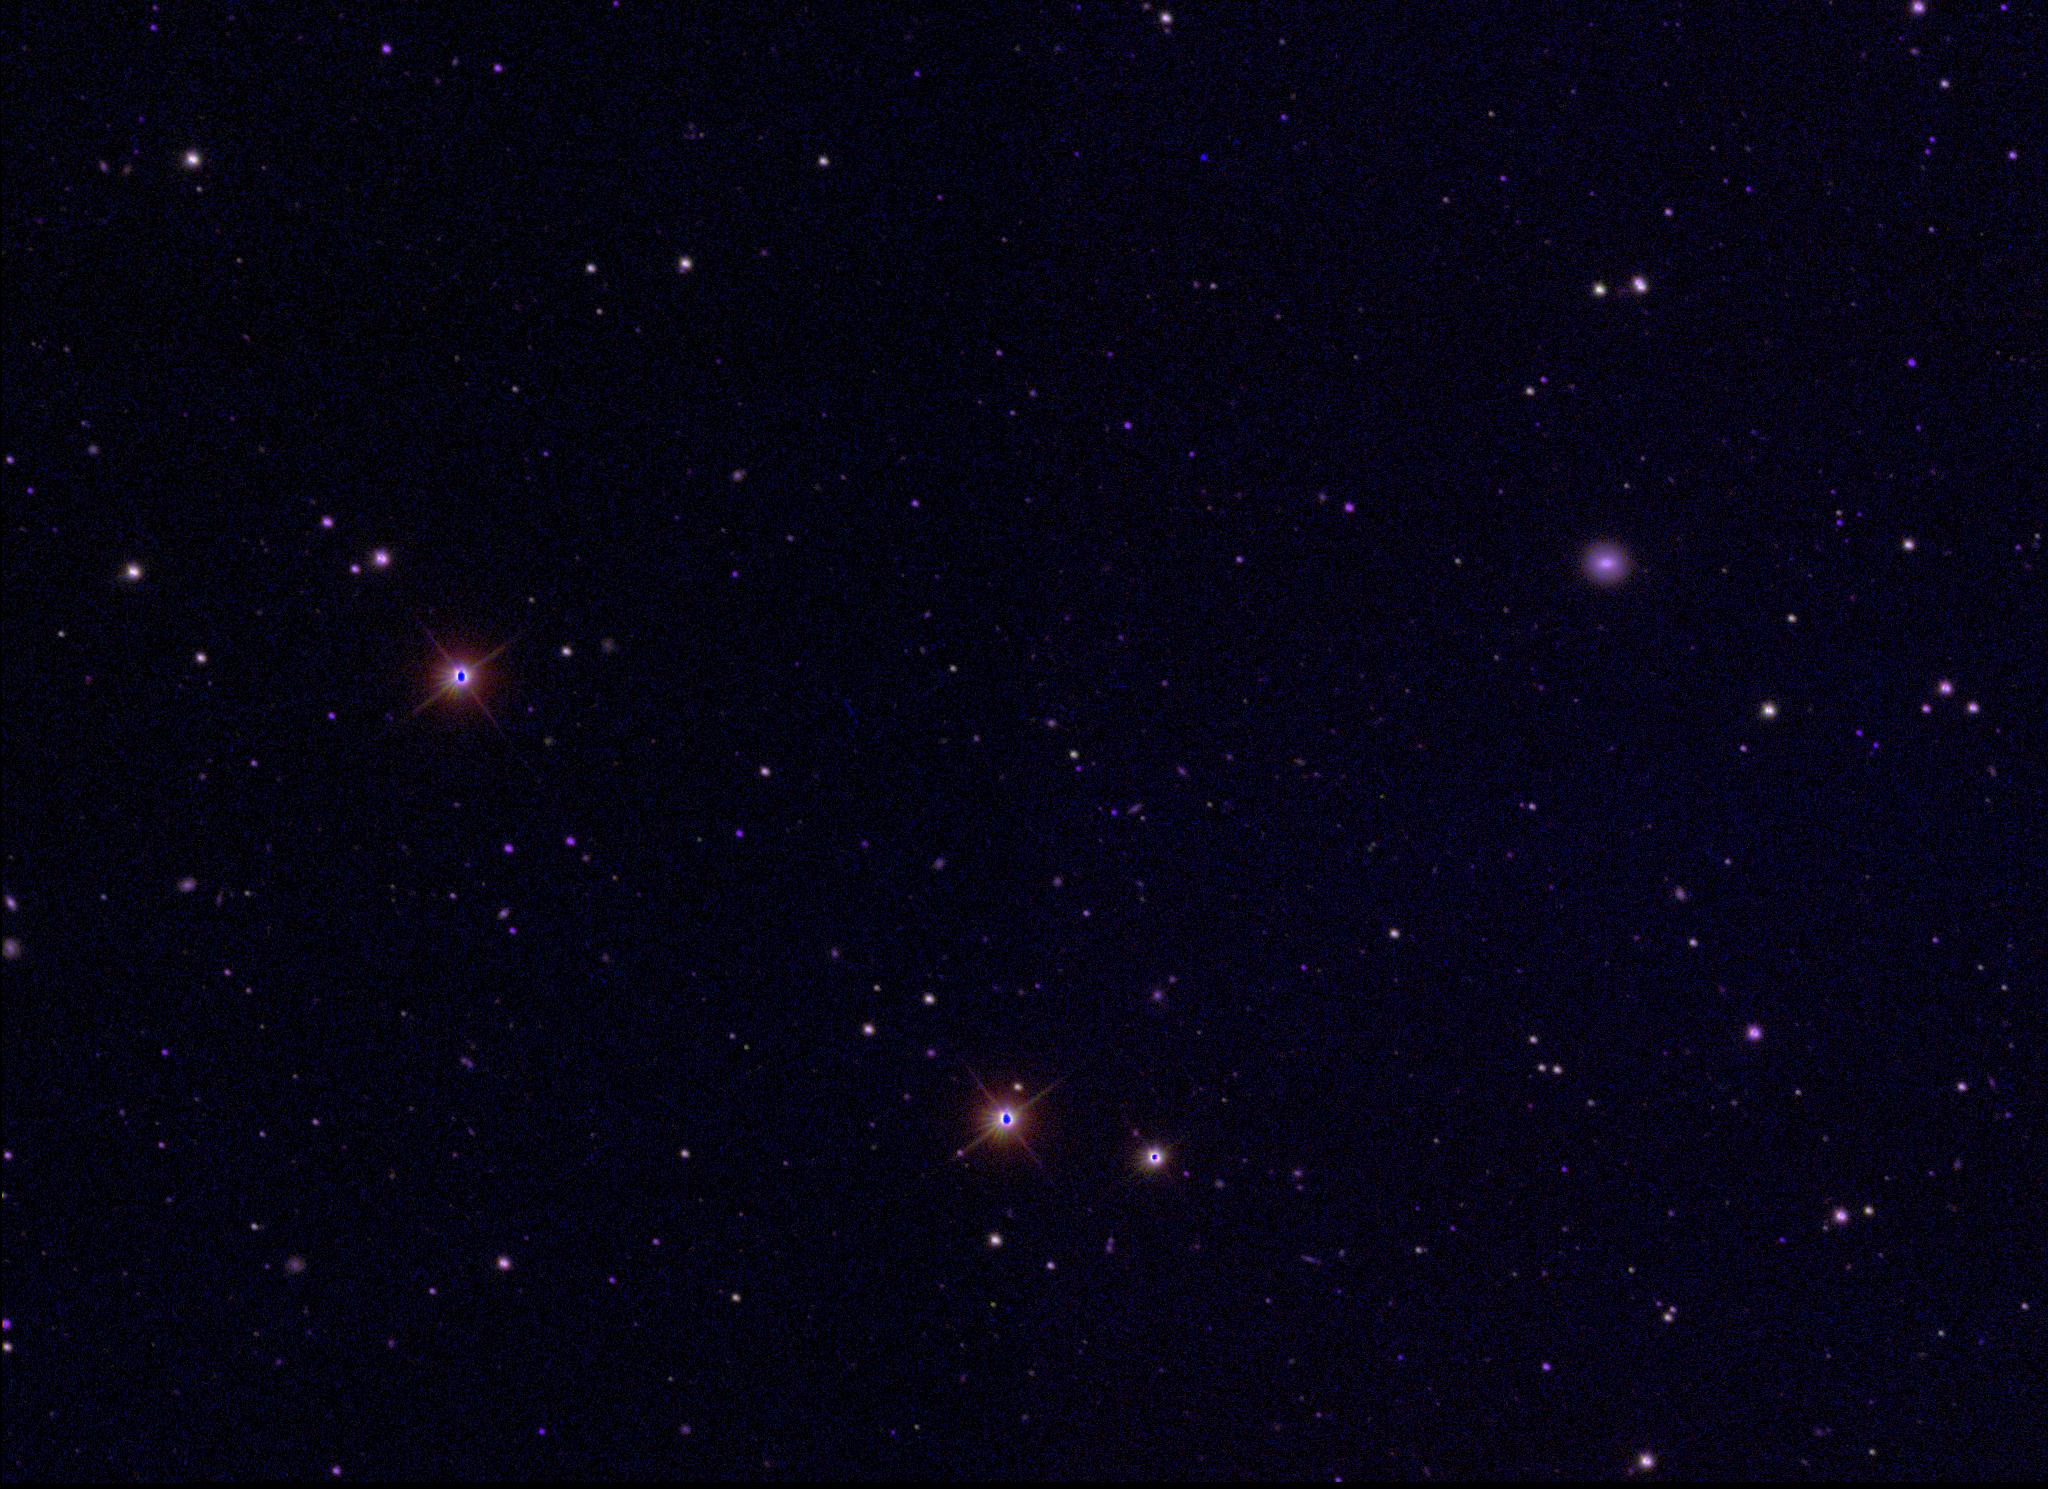L: (1197, 150, 1212, 164)
